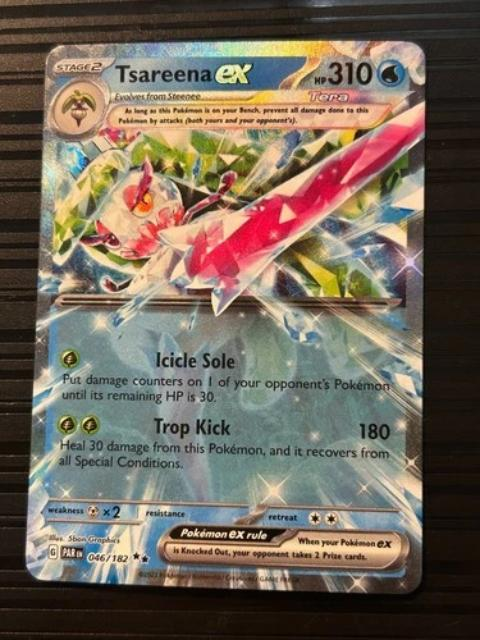Card: (20, 36, 431, 599)
Name: (109, 60, 258, 91)
